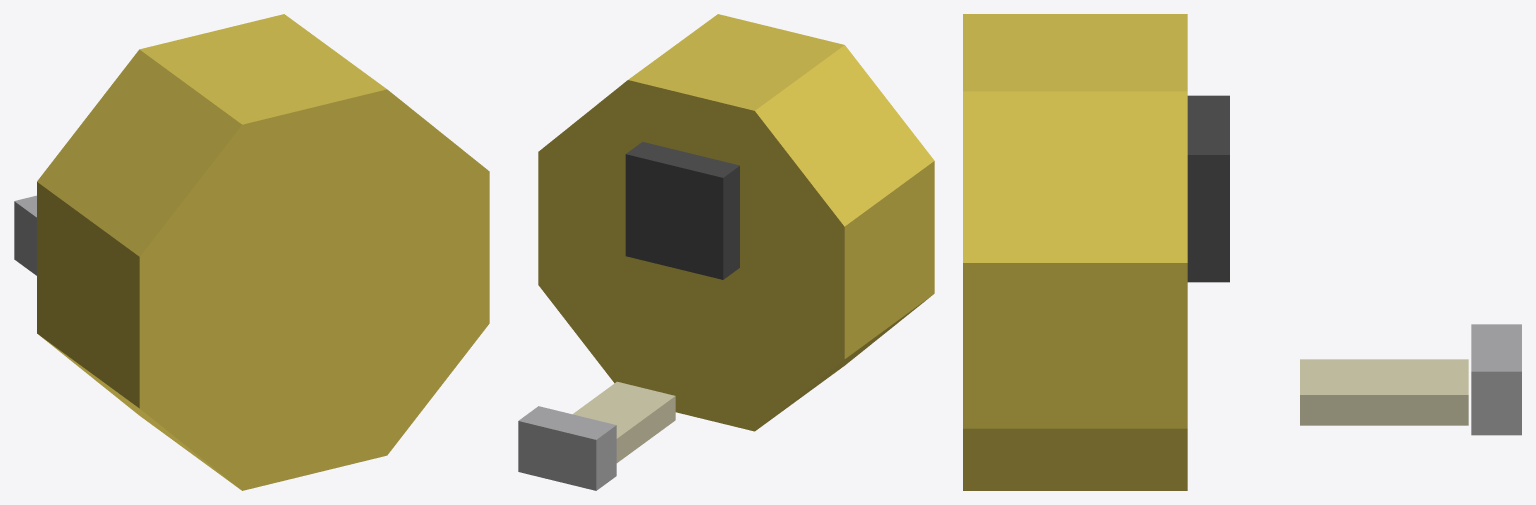
The model's file is item_tape.glb.
The picture shows the model from 3 angles, left to right: view 1: azimuth 30°, elevation 25°; view 2: azimuth 150°, elevation 25°; view 3: azimuth 270°, elevation 25°; orthographic projection. The views are drawn at different scales.
Parts seen in each view (by area): view 1: Item_tape; view 2: Item_tape; view 3: Item_tape.
Part boxes in pixels (x1,y1,x2,y2): Item_tape: (14, 14, 489, 490); Item_tape: (518, 14, 934, 490); Item_tape: (963, 14, 1521, 490).
Bounding box in the file's own units: 0.1571 × 0.1571 × 0.199.
